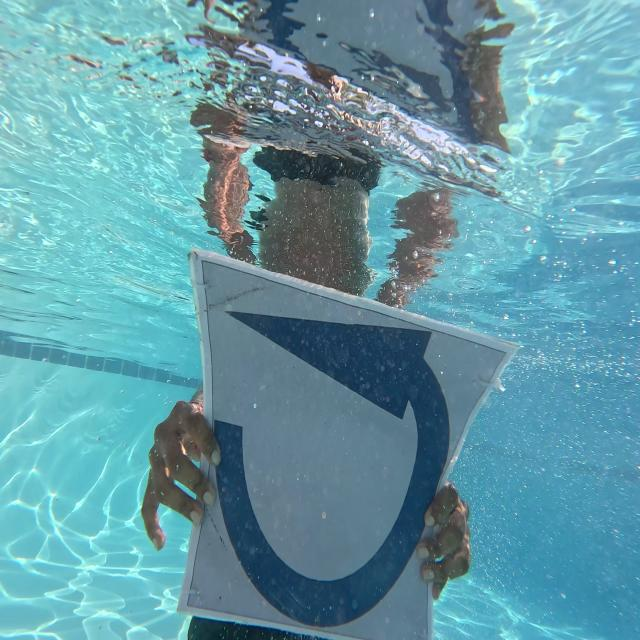blue_side: (178, 218, 507, 640)
